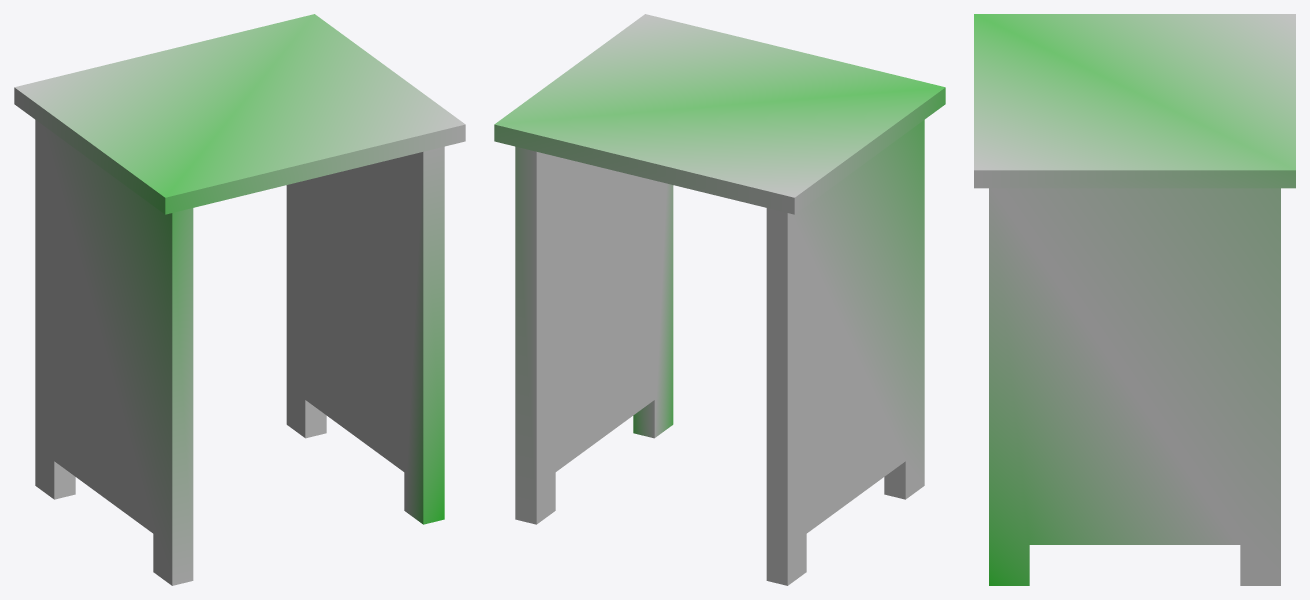
File: Table_3.fbx
3 views of the same model, side by side, from view 1: azimuth 30°, elevation 25°; view 2: azimuth 150°, elevation 25°; view 3: azimuth 270°, elevation 25° (orthographic). The views are drawn at different scales.
Parts seen in each view (by area): view 1: Table_3; view 2: Table_3; view 3: Table_3.
Boxes of the visible parts, box(x1,y1,x2,y2) form: Table_3: box(14, 14, 465, 585); Table_3: box(494, 14, 945, 585); Table_3: box(974, 14, 1295, 585).
Bounding box in the file's own units: 0.7517 × 0.9487 × 0.6542.
